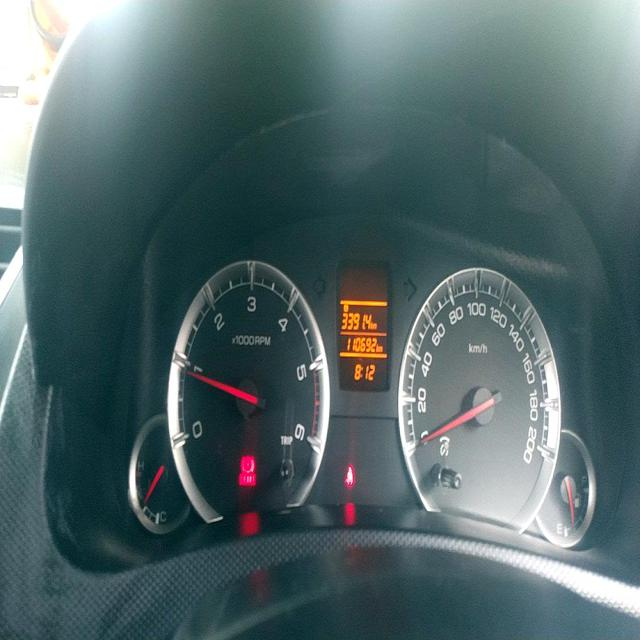odometer: (346, 336, 377, 352)
